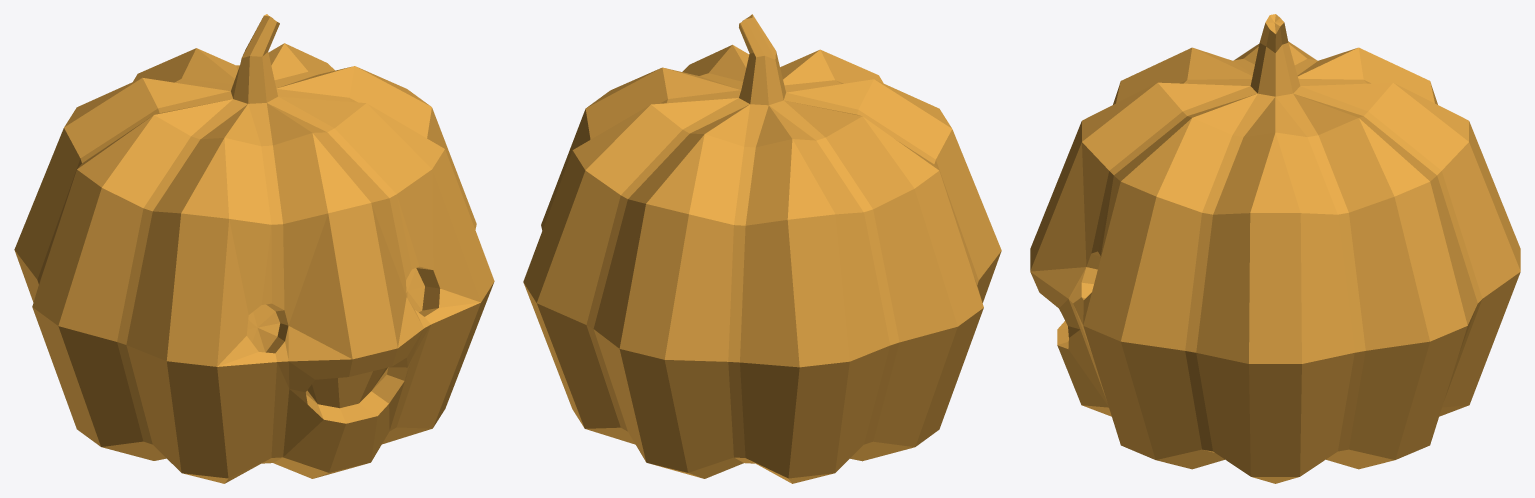
The model's file is pumpkin-carved-b.fbx.
3 renders of one model, left to right at view 1: azimuth 30°, elevation 25°; view 2: azimuth 150°, elevation 25°; view 3: azimuth 270°, elevation 25°, orthographic.
Visible parts, largest first — view 1: pumpkin-carved-b; view 2: pumpkin-carved-b; view 3: pumpkin-carved-b.
Part boxes in pixels (x1=…): pumpkin-carved-b: x1=14, y1=14, x2=494, y2=483; pumpkin-carved-b: x1=523, y1=14, x2=1001, y2=483; pumpkin-carved-b: x1=1030, y1=14, x2=1520, y2=483.
Bounding box in the file's own units: 0.6149 × 0.5886 × 0.6149.
